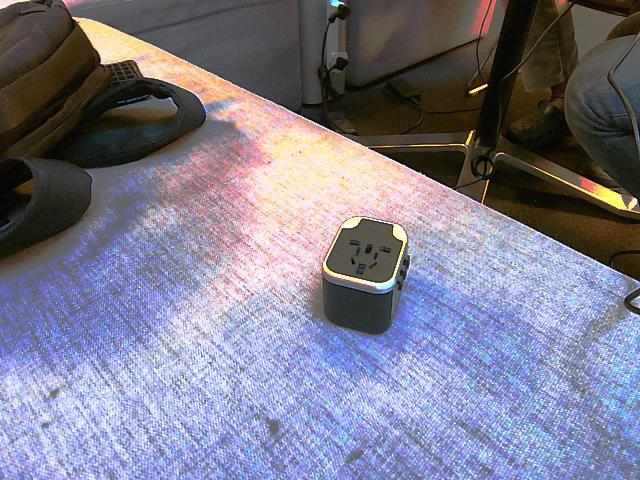adapter: (321, 214, 412, 334)
